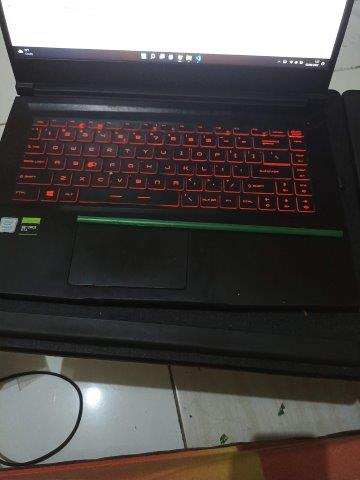sedotan: (77, 215, 344, 237)
